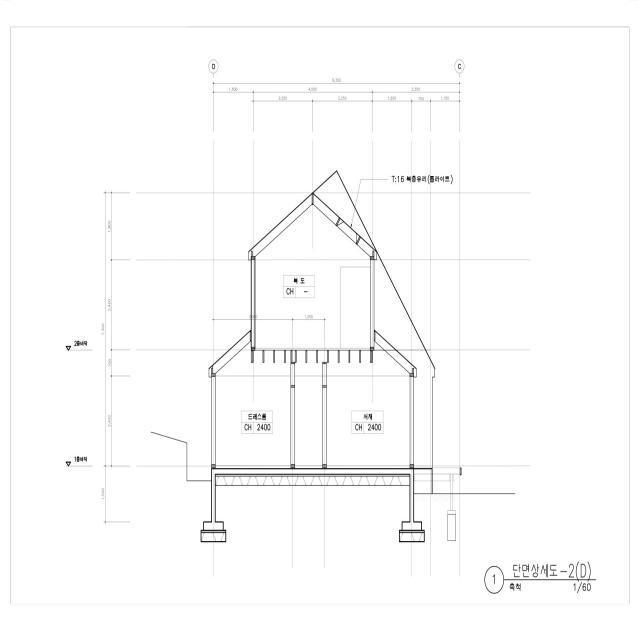space_dressroom: (215, 341, 291, 468)
space_living_room: (295, 363, 322, 468)
space_other: (255, 205, 370, 348), (327, 341, 410, 468)
